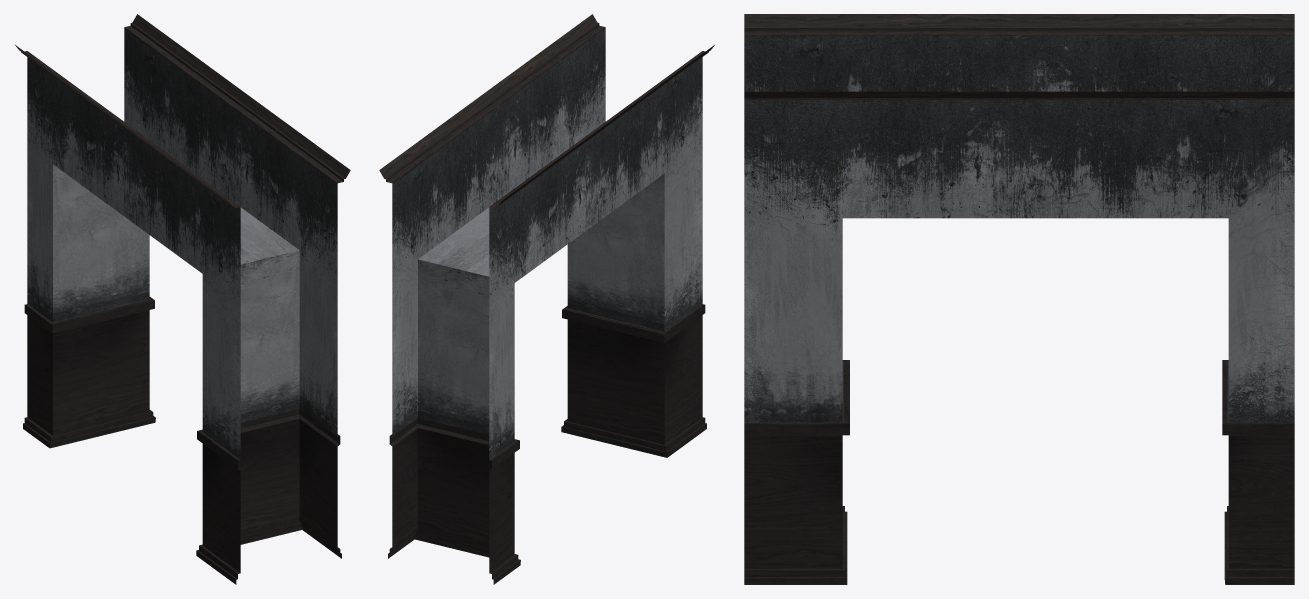
File: FPH_WallArc.fbx
3 renders of one model, left to right at view 1: azimuth 30°, elevation 25°; view 2: azimuth 150°, elevation 25°; view 3: azimuth 270°, elevation 25°, orthographic. The views are drawn at different scales.
Visible parts, largest first — view 1: FPH_WallArc; view 2: FPH_WallArc; view 3: FPH_WallArc.
Part boxes in pixels (bbox=[...]): FPH_WallArc: bbox=[15, 14, 350, 584]; FPH_WallArc: bbox=[379, 14, 714, 584]; FPH_WallArc: bbox=[744, 14, 1294, 584].
Size of the model in its own units: 4.43 by 13.3 by 13.3.
